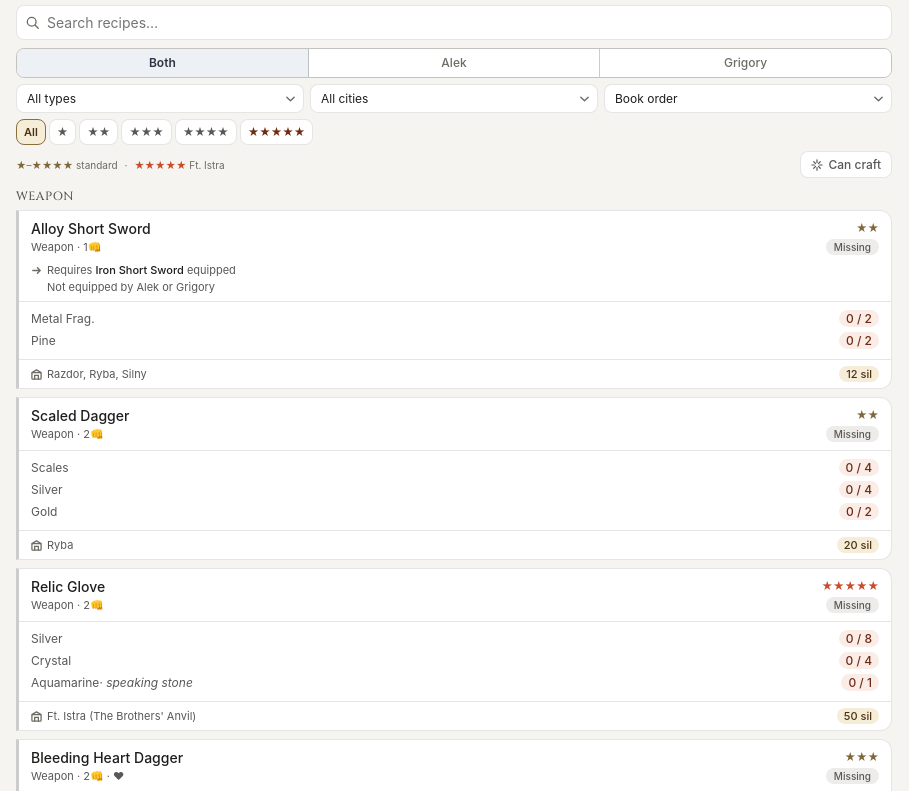
Test: CraftTab — prereq status › checks only the selected guard once one is chosen
Click the button "Grigory": click(746, 63) [600, 49, 891, 77]
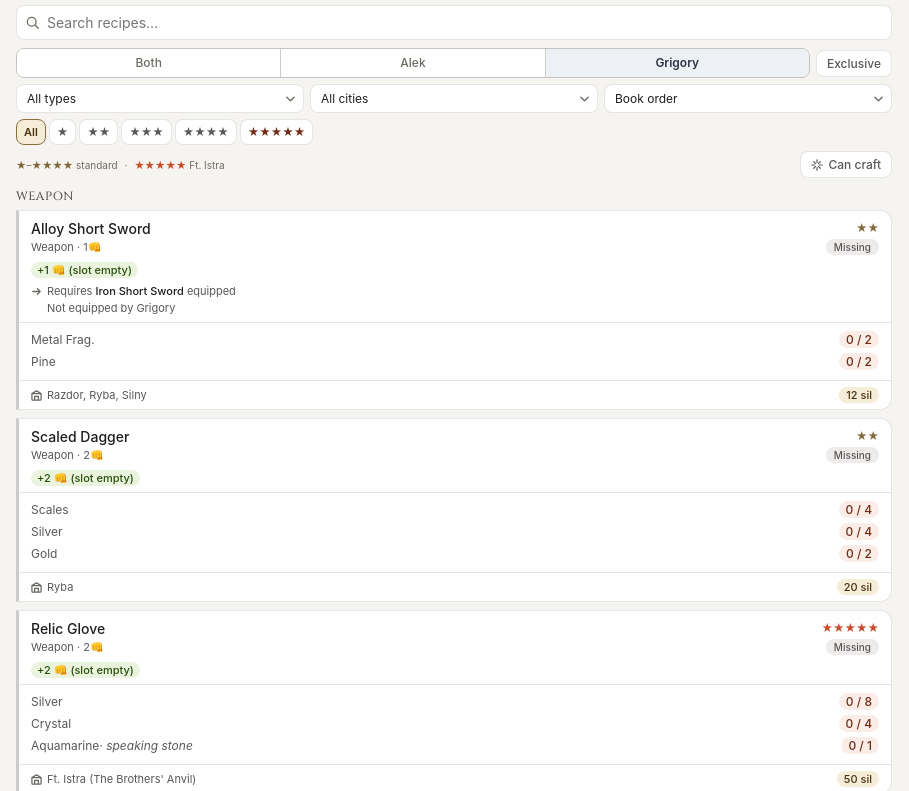
Click the button "Alek": click(413, 63) [281, 49, 546, 77]
(page scrolled)
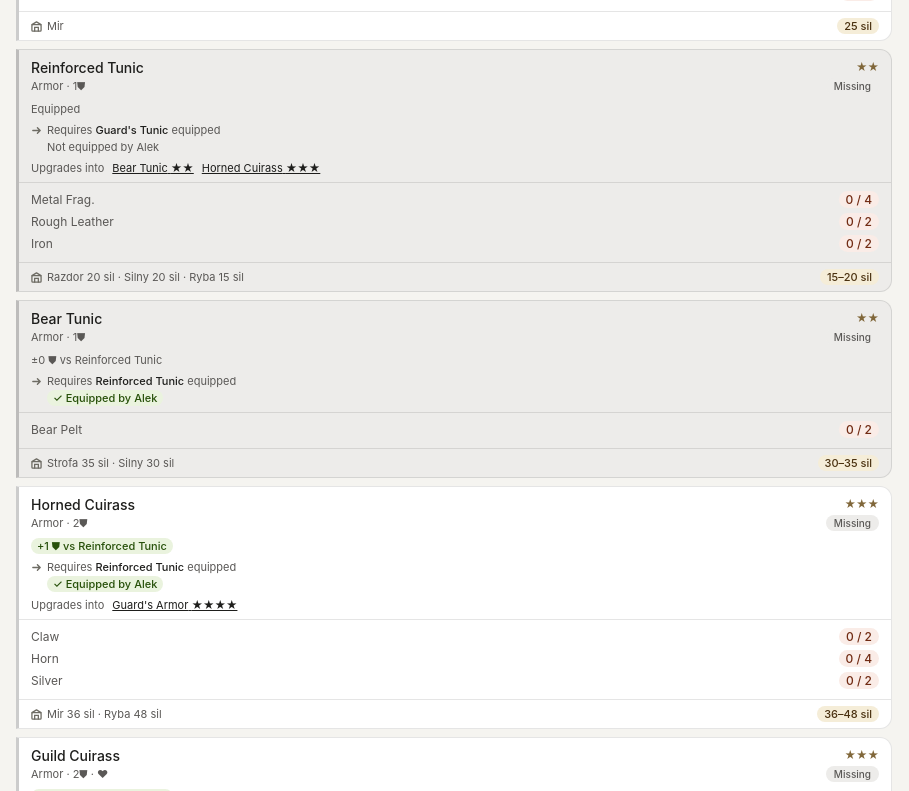
expect the 1st text with class "craft-prereq-status" reads "✓ Equipped by Alek": met, box [47, 390, 163, 406]
